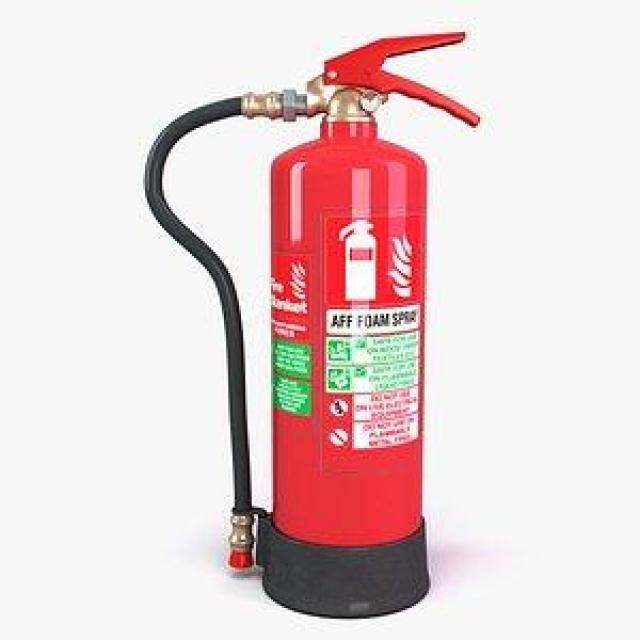fire_extinguisher: (136, 25, 486, 620)
